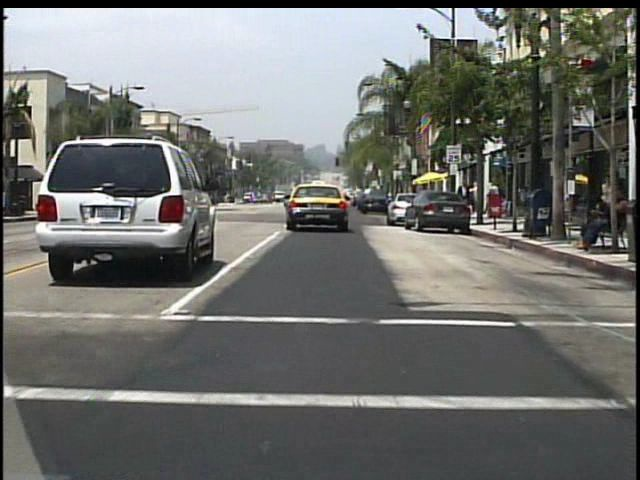person: (573, 197, 616, 253), (597, 175, 614, 239), (456, 180, 471, 219), (490, 183, 503, 219), (473, 179, 484, 217), (484, 184, 496, 217)
